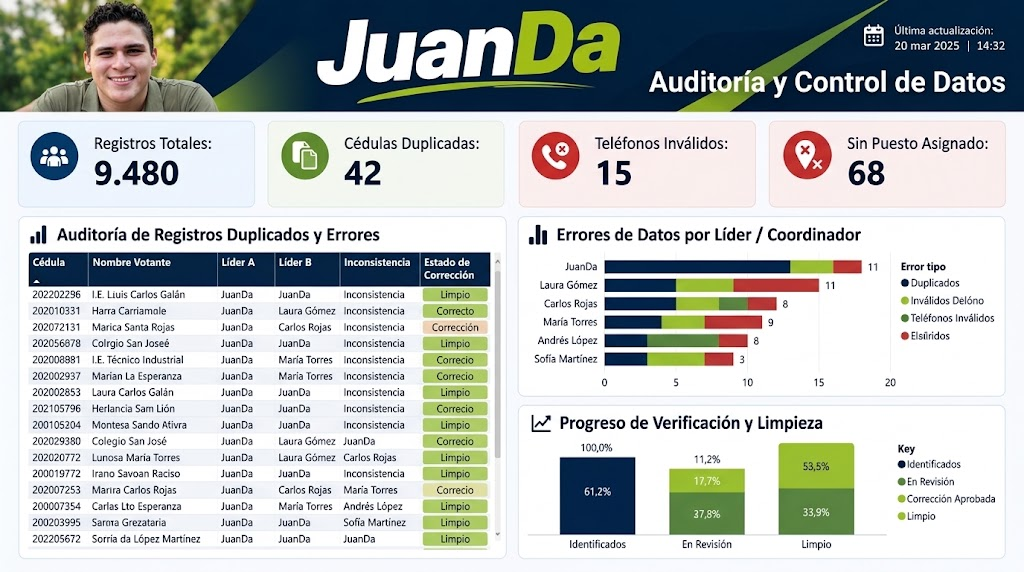

Layout of this report page (visuals, bound fields, positions):
{"tool":"powerbi","page":{"name":"Auditoría y calidad de datos","canvas":[1280,720],"ordinal":3},"visuals":[{"type":"advanceCardE03760C5AB684758B56AA29F9E6C257B","title":"Total registros","fields":{"mainMeasure":["Medidas resumen.Total registros"]},"box":[93,182.6,201.1,95.7],"z":0},{"type":"advanceCardE03760C5AB684758B56AA29F9E6C257B","title":"Cedulas duplicadas","fields":{"mainMeasure":["auditoria de datos.Cedulas duplicadas"]},"box":[418.6,182.6,201.1,95.7],"z":1000},{"type":"advanceCardE03760C5AB684758B56AA29F9E6C257B","title":"Sin puesto asignado","fields":{"mainMeasure":["auditoria de datos.Sin puesto asignado"]},"box":[1045.4,182.6,201.1,95.7],"z":2000},{"type":"advanceCardE03760C5AB684758B56AA29F9E6C257B","title":"Teléfonos inválidos","fields":{"mainMeasure":["auditoria de datos.total telefono invalidos"]},"box":[732.6,182.6,201.1,95.7],"z":3000},{"type":"tableEx","fields":{"Values":["Respuestas.Cédula","Respuestas.Nombre_votante","Respuestas.Teléfono","Respuestas.Líder"]},"box":[38.4,404.7,566.3,303.5],"z":4000},{"type":"hundredPercentStackedBarChart","fields":{"Category":["Respuestas.Líder"],"Y":["auditoria de datos.Cedulas duplicadas"]},"box":[653.5,316.3,593,175.6],"z":5000},{"type":"slicer","title":"Filtrar","fields":{"Values":["Respuestas.Tipo_Novedad"]},"box":[29.1,316.3,565.1,79.1],"z":6000},{"type":"pivotTable","title":"Matriz auditoria por lider","fields":{"Rows":["Respuestas.Líder"],"Values":["Medidas resumen.Total registros","auditoria de datos.Cedulas duplicadas","auditoria de datos.Total_Telefonos_Invalidos","auditoria de datos.Sin_Puesto_Asignado"]},"box":[653.5,515.1,593,177.9],"z":7000}]}

Visuals, with their boxes in screenshot pixels (x1, y1, x2, y2), scaled from the page's 1280x720 canvas onto the 1024x572 screenshot:
"Total registros" advanceCardE03760C5AB684758B56AA29F9E6C257B: <bbox>74, 145, 235, 221</bbox>
"Cedulas duplicadas" advanceCardE03760C5AB684758B56AA29F9E6C257B: <bbox>335, 145, 496, 221</bbox>
"Sin puesto asignado" advanceCardE03760C5AB684758B56AA29F9E6C257B: <bbox>836, 145, 997, 221</bbox>
"Teléfonos inválidos" advanceCardE03760C5AB684758B56AA29F9E6C257B: <bbox>586, 145, 747, 221</bbox>
tableEx - Respuestas.Cédula x Respuestas.Nombre_votante: <bbox>31, 322, 484, 563</bbox>
hundredPercentStackedBarChart - Respuestas.Líder x auditoria de datos.Cedulas duplicadas: <bbox>523, 251, 997, 391</bbox>
"Filtrar" slicer: <bbox>23, 251, 475, 314</bbox>
"Matriz auditoria por lider" pivotTable: <bbox>523, 409, 997, 551</bbox>
